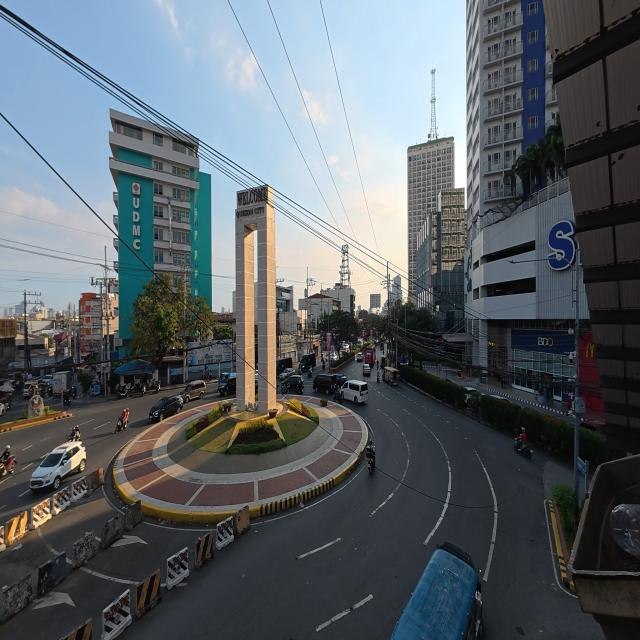Jeepneys: (392, 542, 482, 639), (383, 367, 399, 385), (380, 356, 386, 368)
bus: (364, 346, 376, 366)
car: (30, 441, 86, 491), (149, 395, 183, 421), (181, 381, 206, 402), (281, 375, 304, 394), (218, 373, 236, 395), (465, 387, 481, 404), (23, 382, 36, 397), (278, 368, 294, 380), (490, 394, 511, 403), (337, 375, 347, 387), (340, 343, 350, 354), (329, 351, 339, 362), (363, 364, 370, 377), (43, 374, 53, 383), (0, 403, 6, 415), (357, 352, 363, 362)
motorcycle: (514, 437, 532, 459), (0, 455, 16, 477), (131, 381, 146, 395), (115, 417, 128, 433), (117, 385, 129, 399), (63, 391, 72, 406), (150, 380, 160, 393), (67, 431, 80, 441), (0, 399, 11, 410), (334, 390, 343, 403), (367, 458, 374, 474), (308, 368, 312, 379), (377, 372, 380, 382), (323, 362, 325, 370)
vans: (341, 380, 368, 403), (313, 374, 338, 394), (276, 358, 292, 375), (300, 353, 315, 370)
